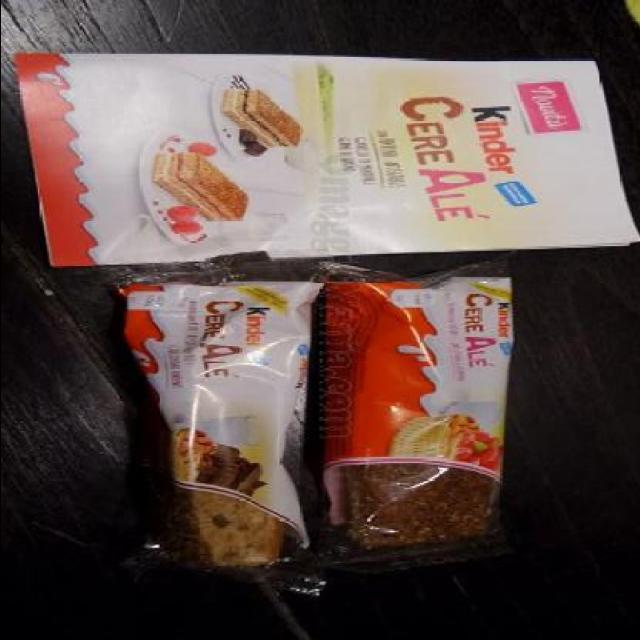Merendine: (22, 38, 630, 276), (313, 254, 525, 576), (105, 268, 322, 580)
